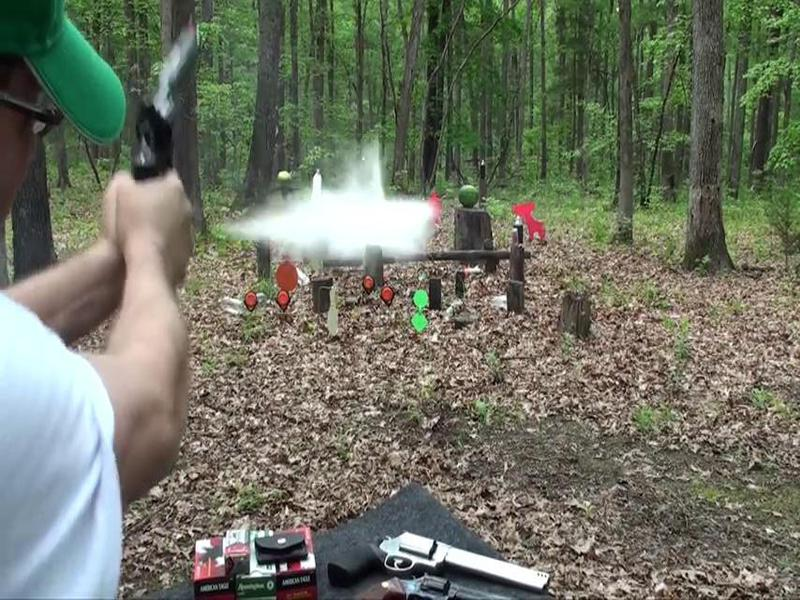Revolver: (117, 92, 187, 205)
